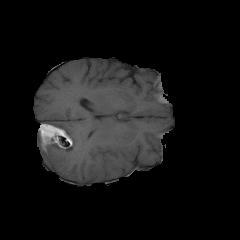glioma: (37, 121, 127, 179)
